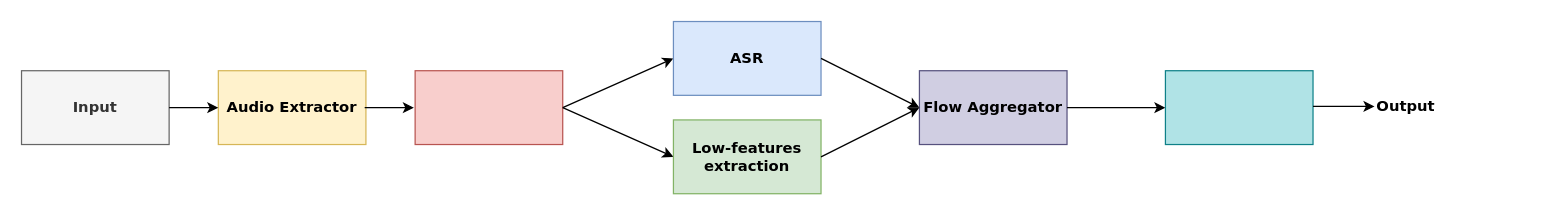
The diagram is 1556 pixels wide and 215 high, and some of its shapes have lost their labels. The shapes that lost their labels are listed below. From the top down, each one's centre as x and y in pixels, then its label:
At point 488,107: "Voice Activity Detector".
At point 1238,107: "Topic Segmentation".
